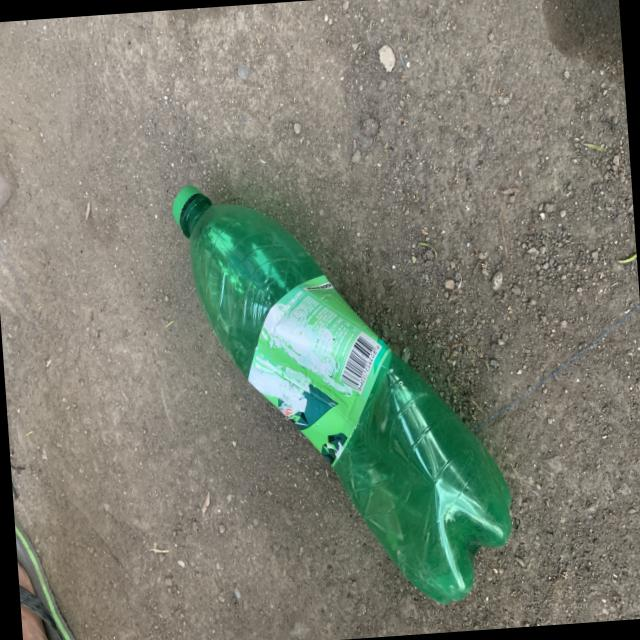Bottle: (172, 185, 510, 603)
